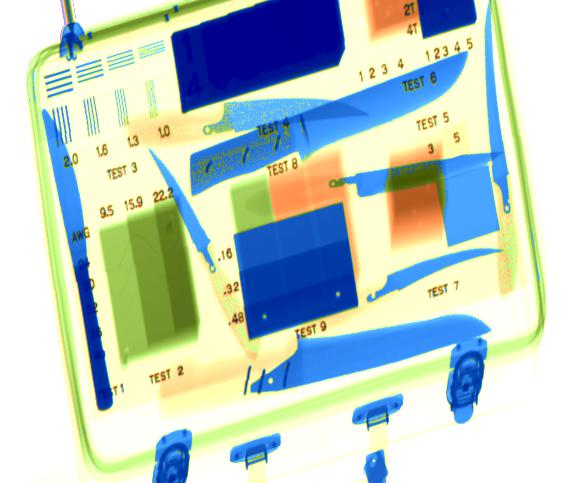Knife: (189, 49, 471, 194), (41, 106, 115, 412), (240, 312, 492, 397), (484, 1, 521, 297), (146, 147, 226, 281), (328, 147, 503, 199), (365, 244, 505, 307), (198, 98, 370, 140)
